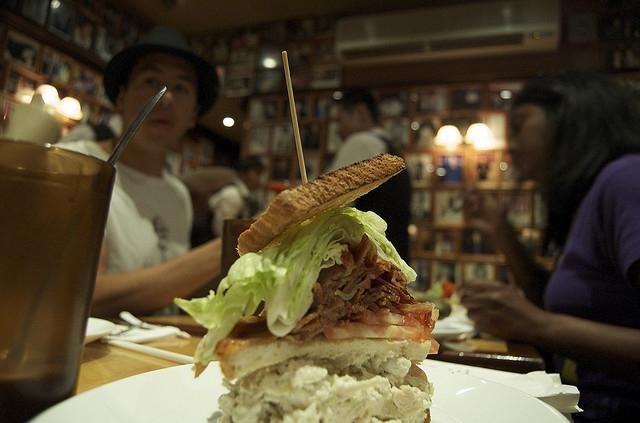lettuce: (172, 206, 418, 377), (262, 234, 314, 291), (241, 272, 272, 310), (428, 282, 442, 298)
tomato: (352, 309, 441, 355), (324, 321, 424, 341), (395, 302, 435, 316)
